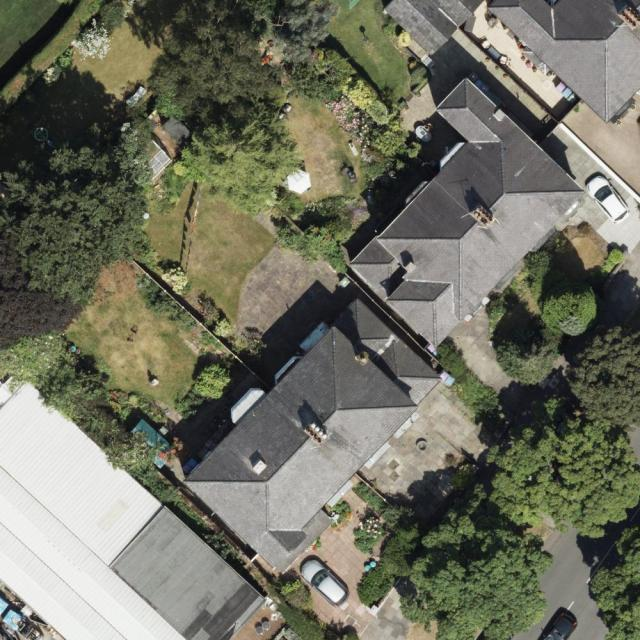roof: (0, 367, 265, 640), (184, 299, 444, 576), (347, 78, 589, 351), (487, 0, 640, 124), (383, 0, 486, 57)
